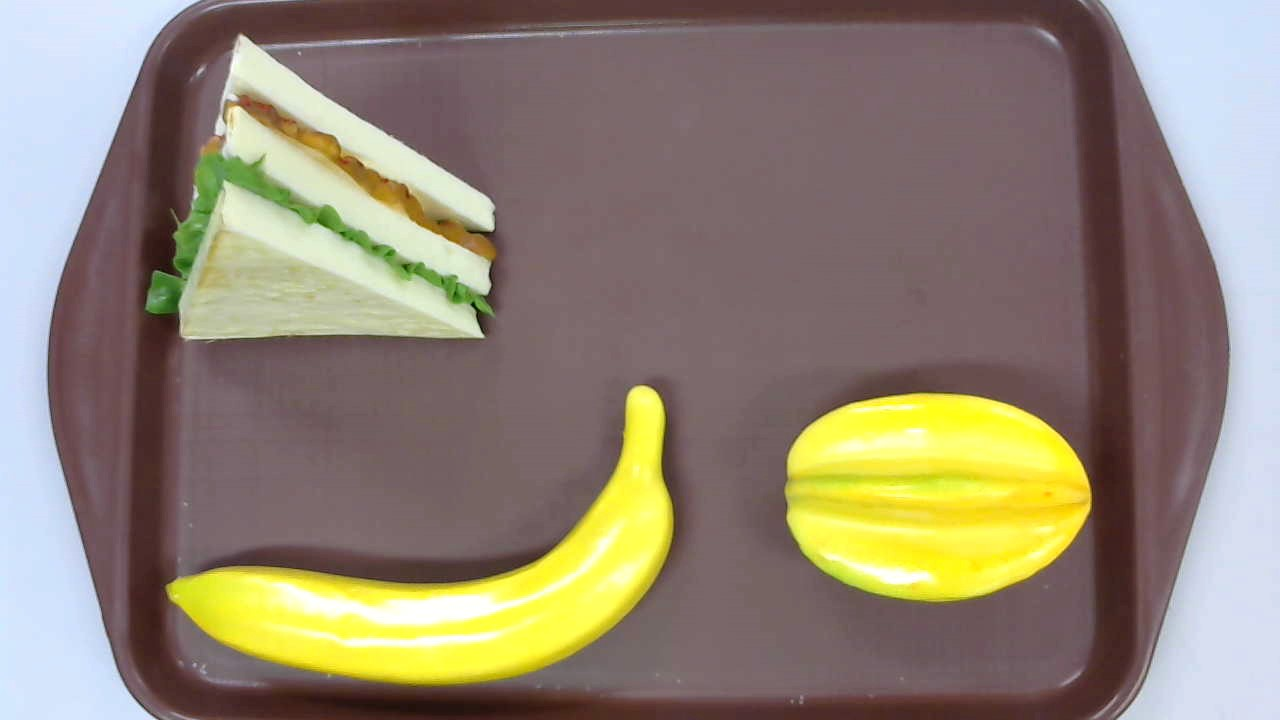banana: (164, 384, 675, 690)
sandwich: (145, 33, 498, 345)
star fruit: (785, 391, 1091, 605)
